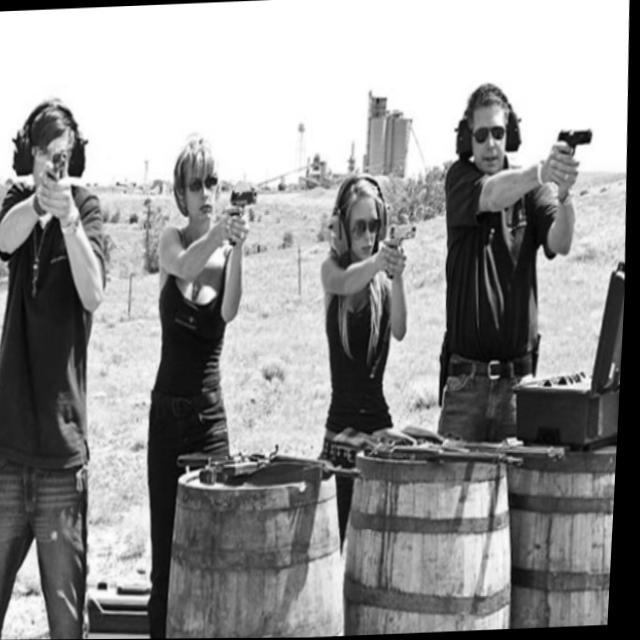weapon: (324, 419, 574, 480), (182, 446, 284, 480), (231, 187, 265, 239), (390, 222, 420, 278), (556, 128, 597, 168), (52, 148, 70, 182)
